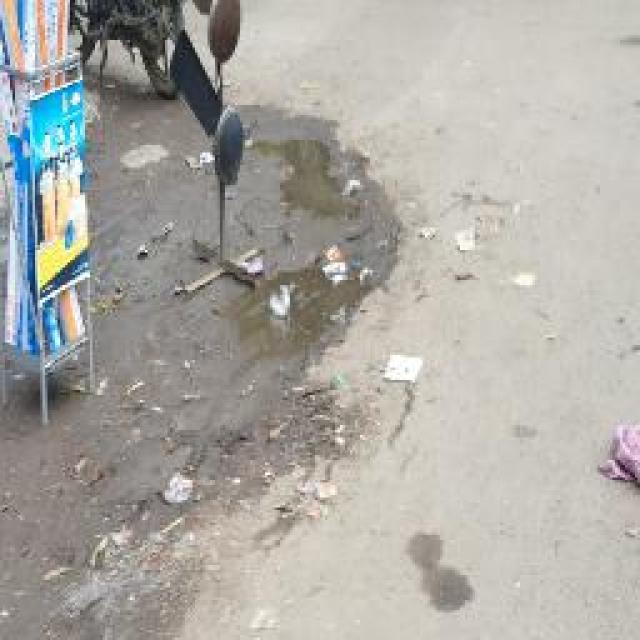waterlogging: (262, 124, 372, 232)
